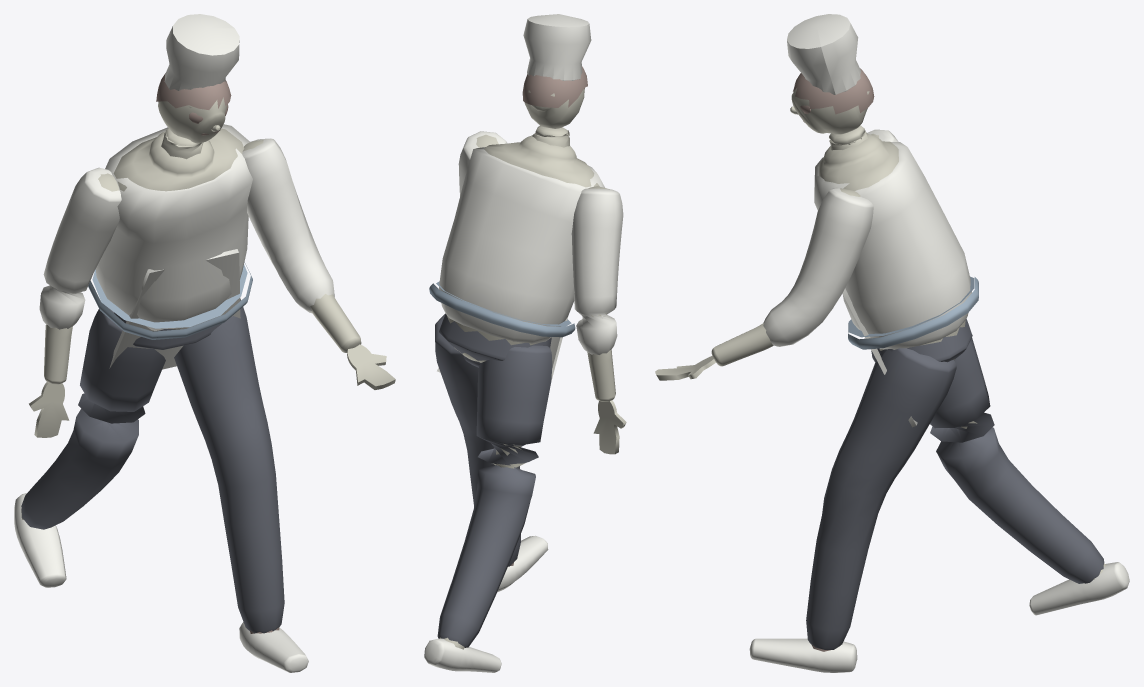
File: undead-horde-and-infected-variants-walker-kitchen-chef-b782feba__12000.glb
3 renders of one model, left to right at view 1: azimuth 30°, elevation 25°; view 2: azimuth 150°, elevation 25°; view 3: azimuth 270°, elevation 25°, orthographic. The views are drawn at different scales.
Parts seen in each view (by area): view 1: walker-kitchen-chef-lurching; view 2: walker-kitchen-chef-lurching; view 3: walker-kitchen-chef-lurching.
Part boxes in pixels (x1,y1,x2,y2): walker-kitchen-chef-lurching: [14, 14, 395, 672]; walker-kitchen-chef-lurching: [424, 14, 626, 672]; walker-kitchen-chef-lurching: [655, 14, 1129, 672].
Size of the model in its own units: 0.6712 by 1.72 by 1.19.
